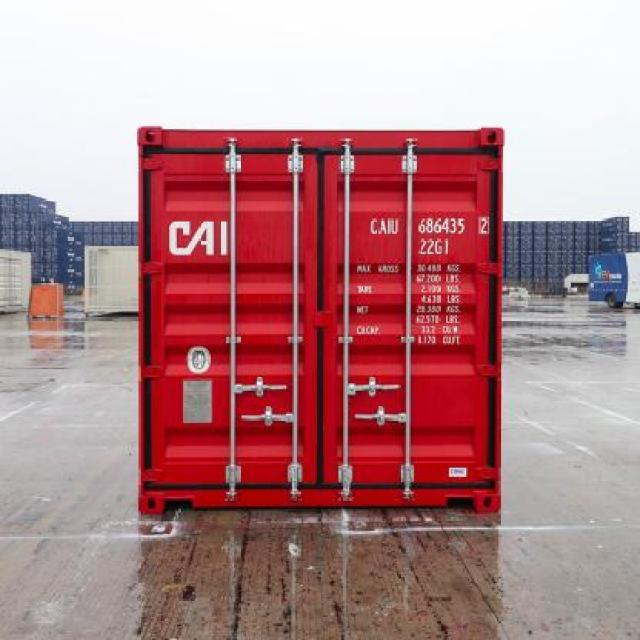ISO: (418, 238, 450, 256)
container_number: (367, 216, 485, 236)
